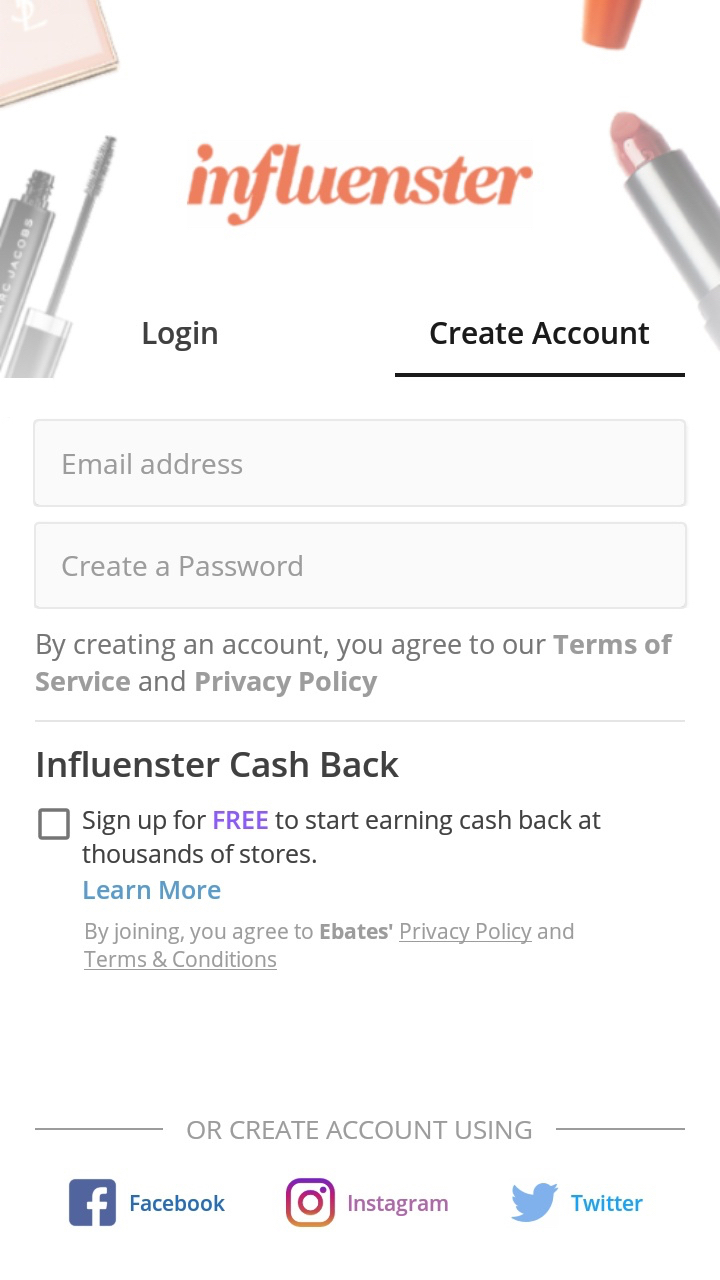CheckedTextView: (39, 807, 602, 864)
EditText: (34, 420, 686, 508), (35, 523, 687, 610)
Icon: (70, 1178, 118, 1227), (511, 1182, 559, 1223)
Image: (187, 144, 534, 228), (286, 1177, 337, 1228)
Text: (36, 633, 673, 698), (82, 809, 602, 864), (84, 922, 574, 971), (38, 750, 400, 778), (187, 1120, 532, 1140), (63, 555, 303, 577), (431, 322, 650, 345), (64, 454, 243, 475), (84, 880, 222, 900), (348, 1194, 449, 1217), (144, 322, 218, 352), (130, 1194, 226, 1212), (571, 1193, 644, 1212)
